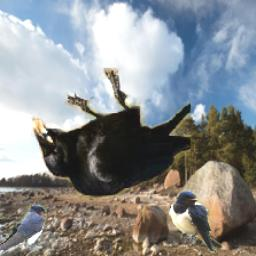Crow: (32, 68, 192, 199)
Swallow: (168, 189, 223, 254), (0, 204, 48, 256)
